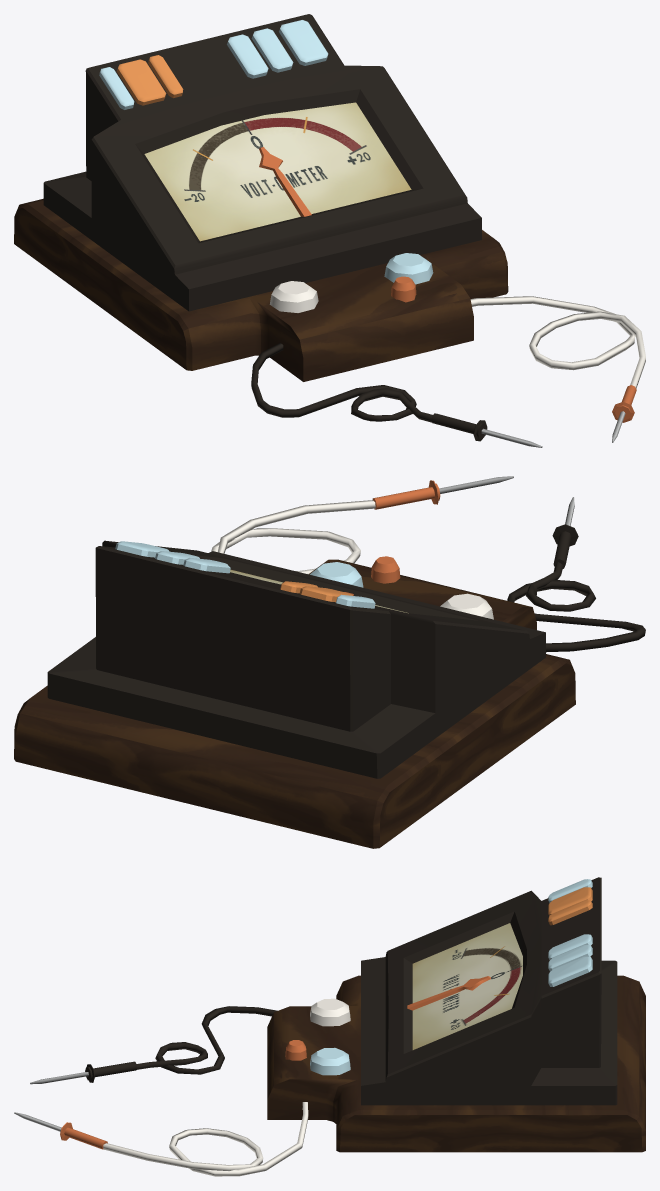
The model's file is VoltMeter.fbx.
The picture shows the model from 3 angles, top to bottom: view 1: azimuth 30°, elevation 25°; view 2: azimuth 150°, elevation 25°; view 3: azimuth 270°, elevation 25°; orthographic projection. The views are drawn at different scales.
Parts seen in each view (by area): view 1: VoltMeter, VoltMeter_Meter; view 2: VoltMeter; view 3: VoltMeter, VoltMeter_Meter.
Boxes of the visible parts, x1,y1,x2,y2 form: VoltMeter: [14, 14, 645, 447]; VoltMeter_Meter: [259, 147, 311, 216]; VoltMeter: [14, 476, 645, 848]; VoltMeter: [14, 877, 645, 1176]; VoltMeter_Meter: [407, 976, 490, 1010].
Size of the model in its own units: 1.61 by 0.7776 by 2.67.
